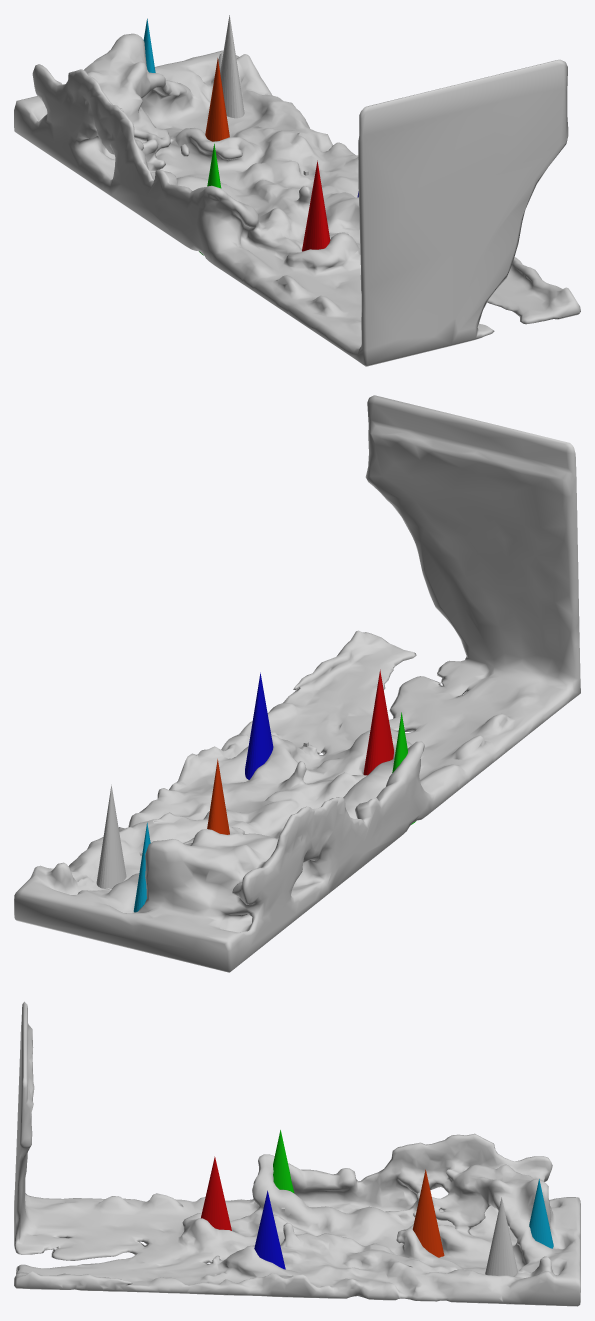
3 renders of one model, top to bottom at view 1: azimuth 30°, elevation 25°; view 2: azimuth 150°, elevation 25°; view 3: azimuth 270°, elevation 25°, orthographic. The views are drawn at different scales.
Parts seen in each view (by area): view 1: Liquid_Domain, 円錐, 円錐.001, 円錐.004; view 2: Liquid_Domain, 円錐, 円錐.001, 円錐.002, 円錐.004; view 3: Liquid_Domain, 円錐, 円錐.004, 円錐.002, 円錐.001, 円錐.005, 円錐.003.
Boxes of the visible parts, bbox=[...] form: Liquid_Domain: bbox=[14, 33, 580, 366]; 円錐: bbox=[220, 15, 244, 118]; 円錐.001: bbox=[302, 160, 330, 251]; 円錐.004: bbox=[205, 58, 229, 141]; Liquid_Domain: bbox=[14, 395, 580, 972]; 円錐: bbox=[96, 784, 126, 888]; 円錐.001: bbox=[363, 669, 393, 775]; 円錐.002: bbox=[245, 672, 273, 779]; 円錐.004: bbox=[207, 759, 229, 834]; Liquid_Domain: bbox=[14, 1001, 580, 1306]; 円錐: bbox=[485, 1197, 517, 1276]; 円錐.004: bbox=[412, 1169, 444, 1257]; 円錐.002: bbox=[254, 1190, 285, 1269]; 円錐.001: bbox=[201, 1156, 231, 1230]; 円錐.005: bbox=[529, 1179, 553, 1248]; 円錐.003: bbox=[273, 1130, 294, 1192].
Size of the model in its own units: 129 by 157 by 361.
